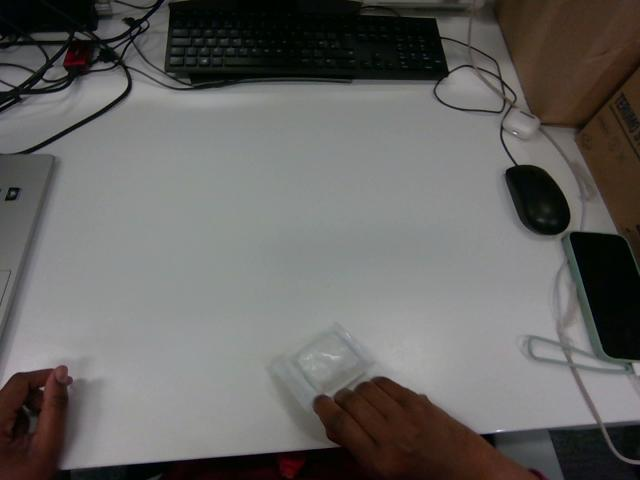gauze: (272, 324, 374, 409)
